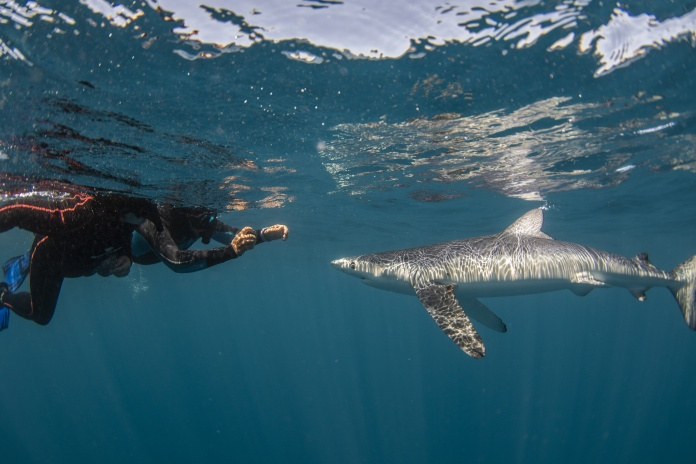Azul: (327, 182, 696, 367)
